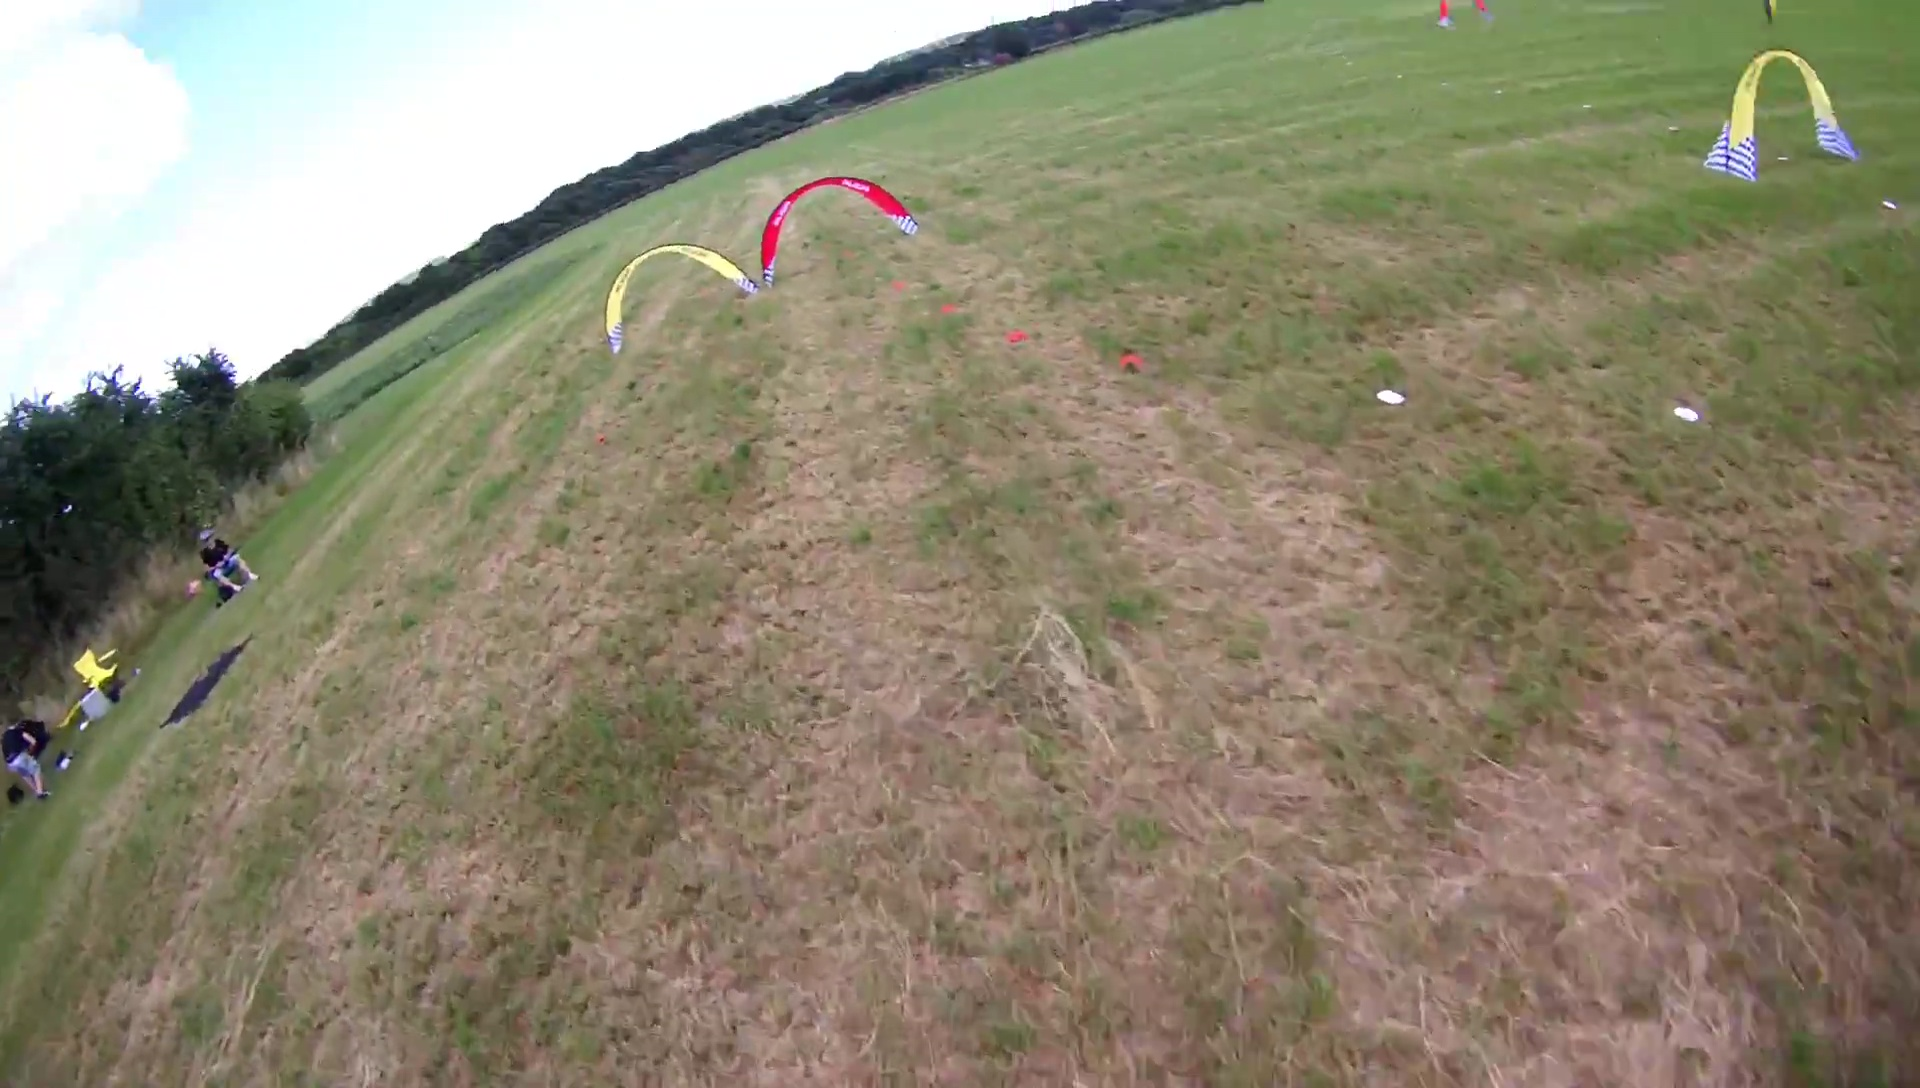gate: (1702, 47, 1855, 181), (758, 171, 918, 287), (604, 241, 758, 357)
